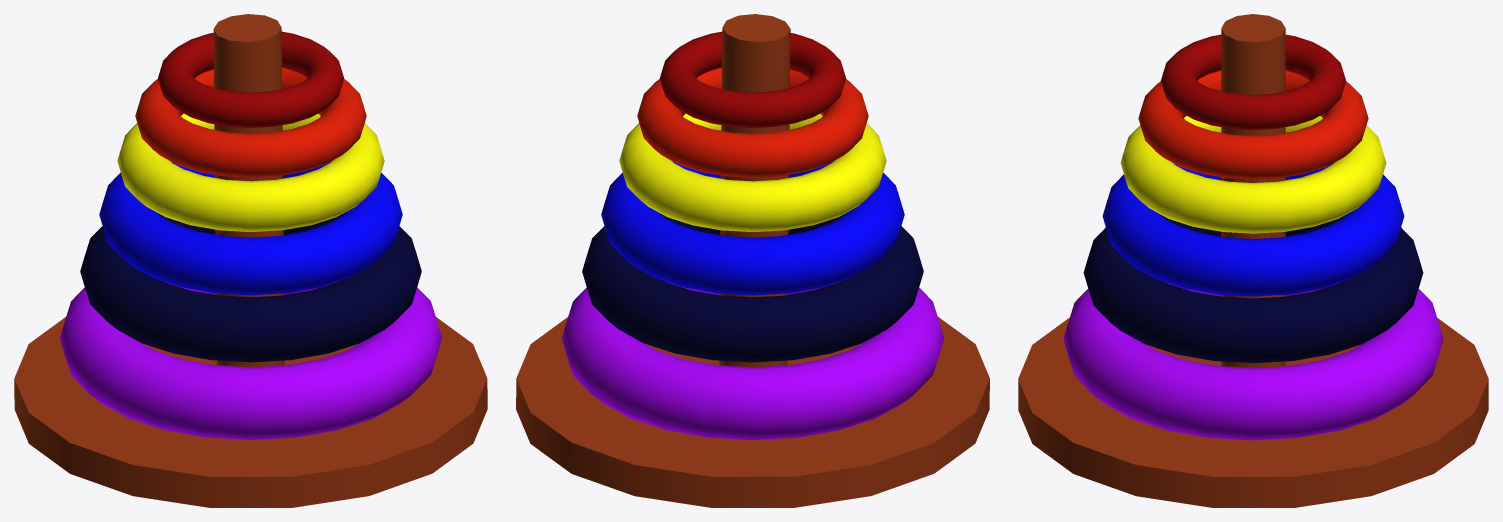
The model's file is hanoi.FBX.
The picture shows the model from 3 angles, left to right: view 1: azimuth 30°, elevation 25°; view 2: azimuth 150°, elevation 25°; view 3: azimuth 270°, elevation 25°; orthographic projection.
Parts seen in each view (by area): view 1: bone, Torus001, Torus002, Torus003, Torus004, Torus005, Torus006; view 2: bone, Torus001, Torus002, Torus003, Torus004, Torus005, Torus006; view 3: bone, Torus001, Torus002, Torus003, Torus004, Torus005, Torus006.
Part boxes in pixels (x1,y1,x2,y2): bone: (14,14,487,507); Torus001: (60,281,442,439); Torus002: (80,214,421,362); Torus003: (99,161,402,295); Torus004: (117,113,384,231); Torus005: (135,67,366,177); Torus006: (158,31,343,127); bone: (516,14,989,507); Torus001: (561,282,943,439); Torus002: (582,214,923,362); Torus003: (601,161,904,295); Torus004: (619,114,886,231); Torus005: (637,67,868,177); Torus006: (660,31,845,127); bone: (1018,14,1488,507); Torus001: (1063,283,1443,440); Torus002: (1083,215,1423,363); Torus003: (1102,163,1404,296); Torus004: (1120,116,1386,233); Torus005: (1138,70,1368,179); Torus006: (1161,34,1345,130).
Bounding box in the file's own units: 153 × 138 × 155.
